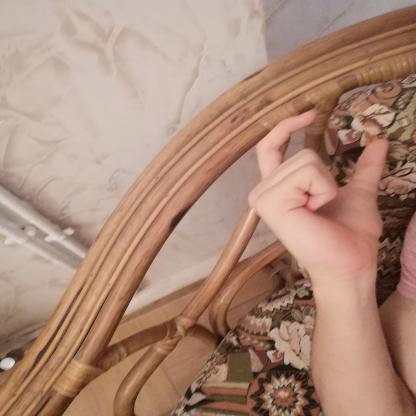NOON: (232, 102, 397, 286)
